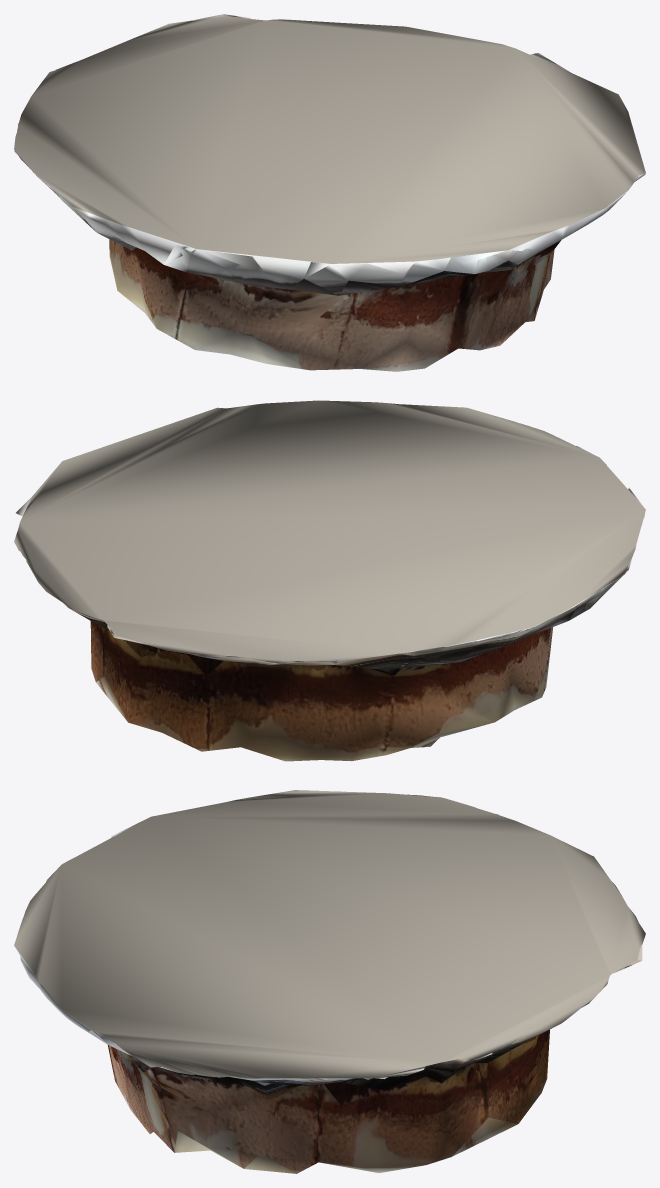
Rendered from cake_748.obj.
The picture shows the model from 3 angles, top to bottom: view 1: azimuth 30°, elevation 25°; view 2: azimuth 150°, elevation 25°; view 3: azimuth 270°, elevation 25°; orthographic projection. The views are drawn at different scales.
Size of the model in its own units: 0.1775 by 0.0539 by 0.178.
Materials: 1 (1 with a texture image).
